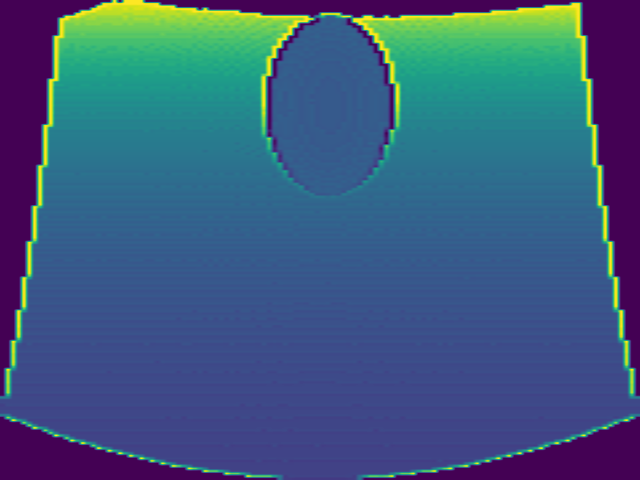sphere: (259, 12, 401, 197)
